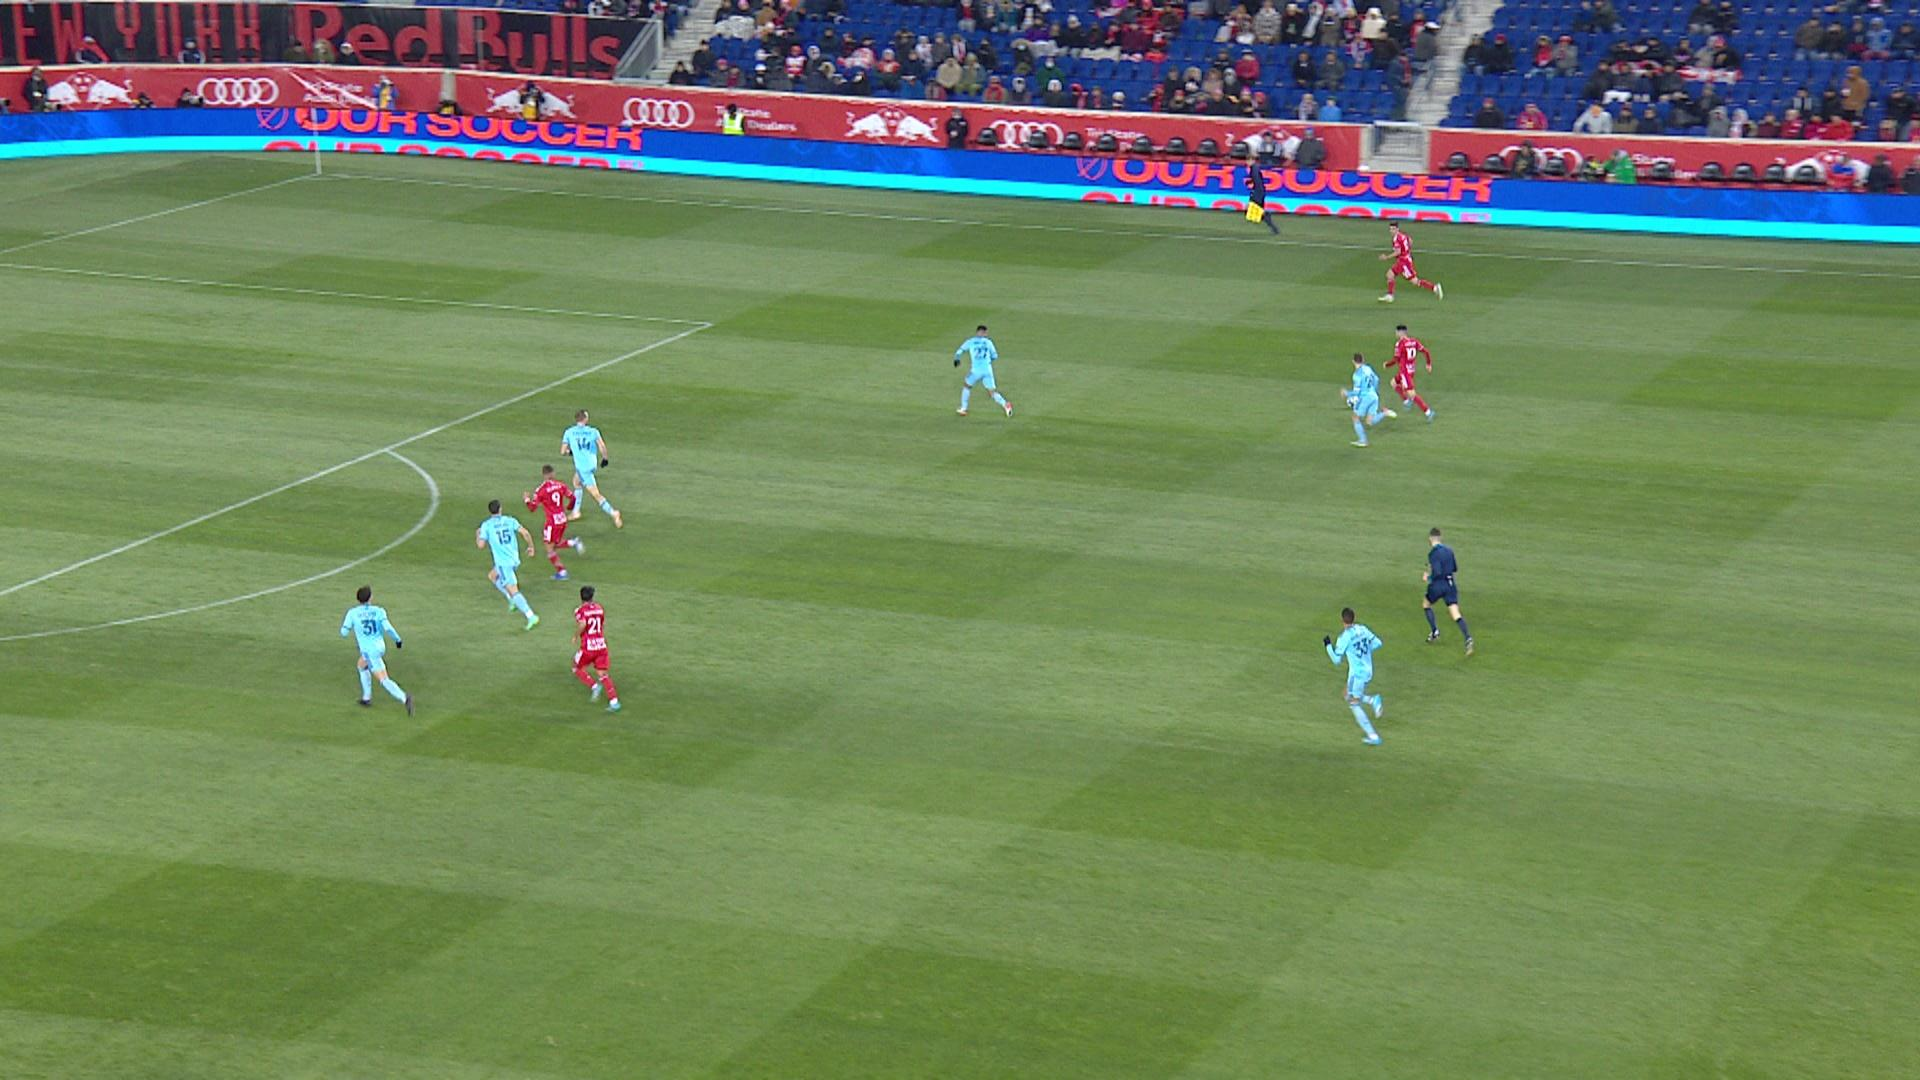football: (1345, 397, 1354, 410)
